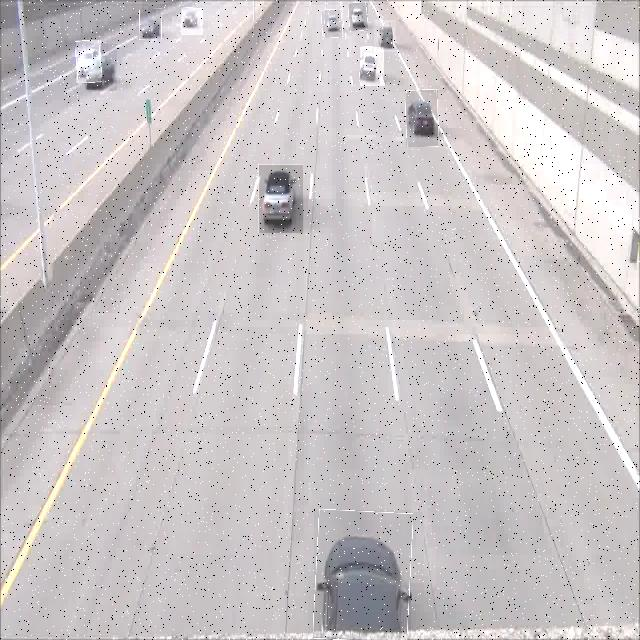Car: (314, 510, 411, 640), (258, 164, 303, 233), (406, 90, 438, 147), (86, 43, 117, 91), (76, 40, 101, 83), (360, 47, 384, 86), (140, 8, 162, 40), (374, 20, 396, 52), (181, 8, 203, 35), (322, 10, 342, 38), (349, 3, 368, 31)
